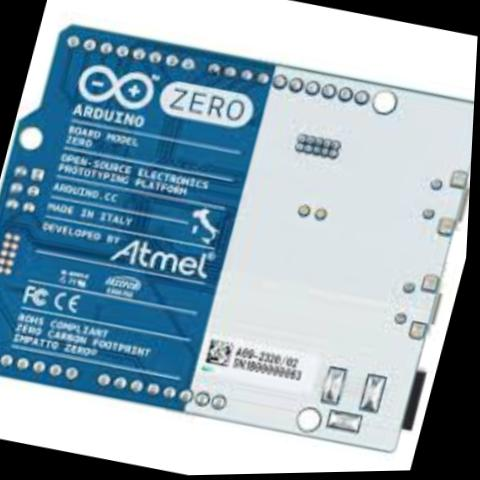Arduino-Zero: (0, 6, 479, 473)
